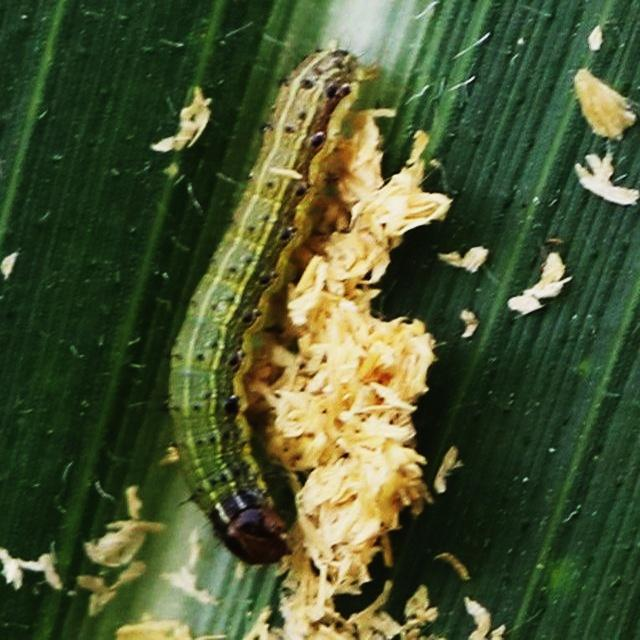worm: (164, 43, 381, 567)
